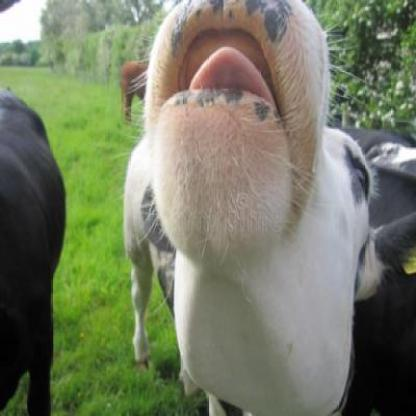lower: (191, 117, 214, 143)
mouth: (144, 0, 314, 269)
